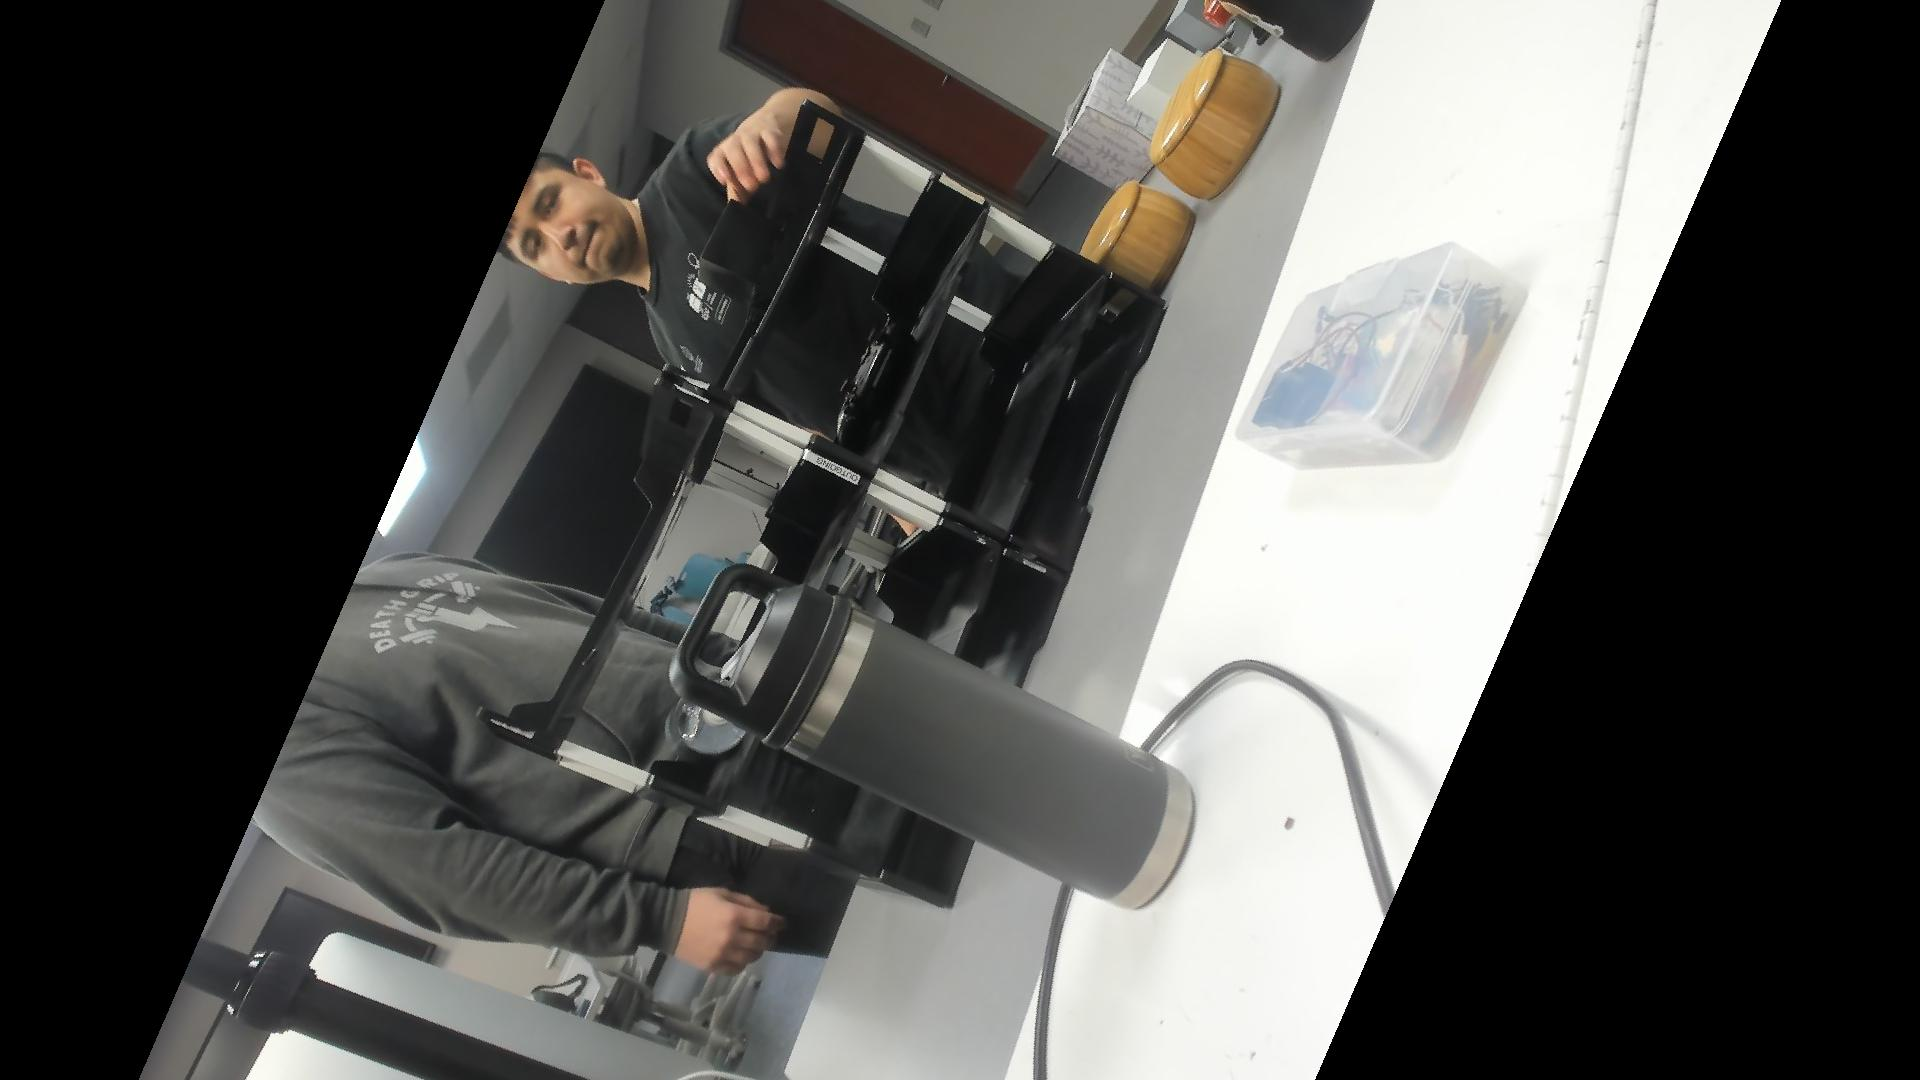black pallet: (690, 193, 808, 311)
grey pallet: (1163, 1, 1251, 58)
white pallet: (1124, 37, 1199, 121)
